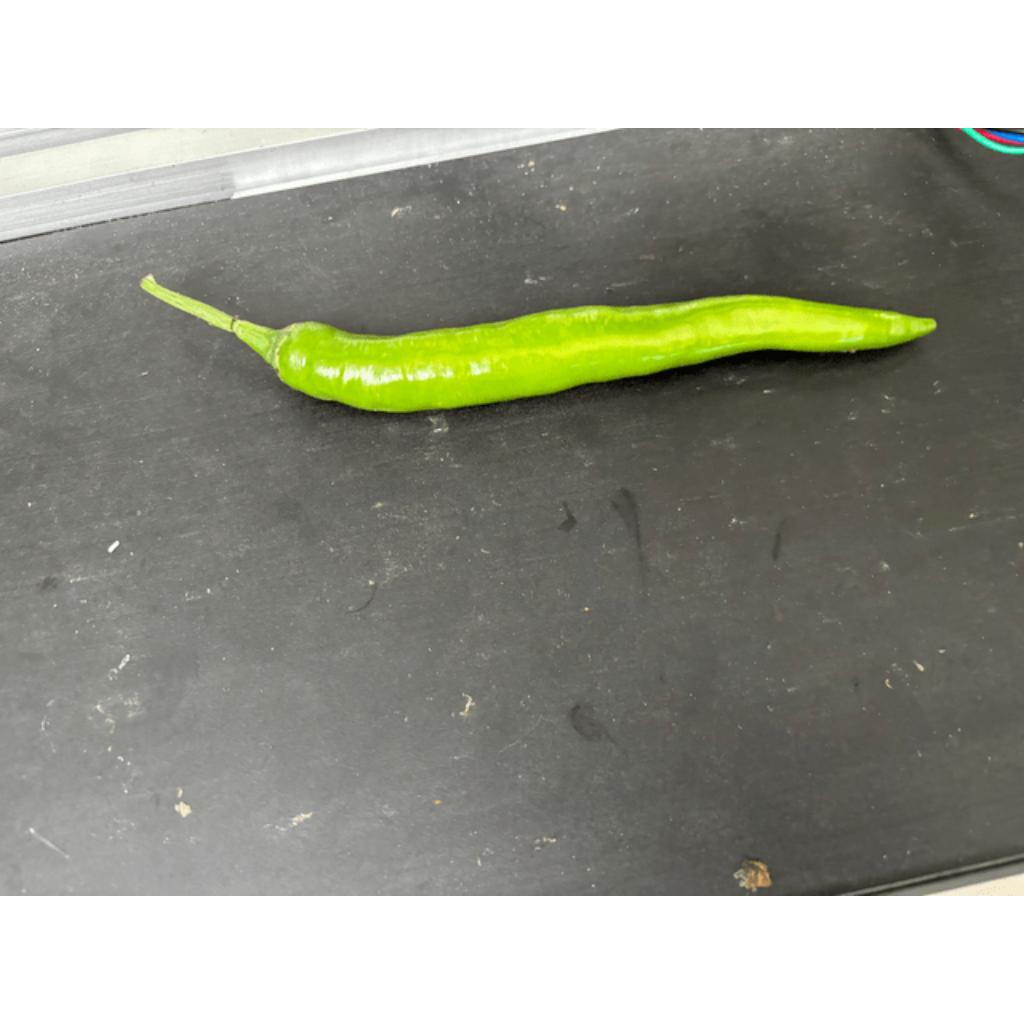chili: (269, 293, 938, 413)
